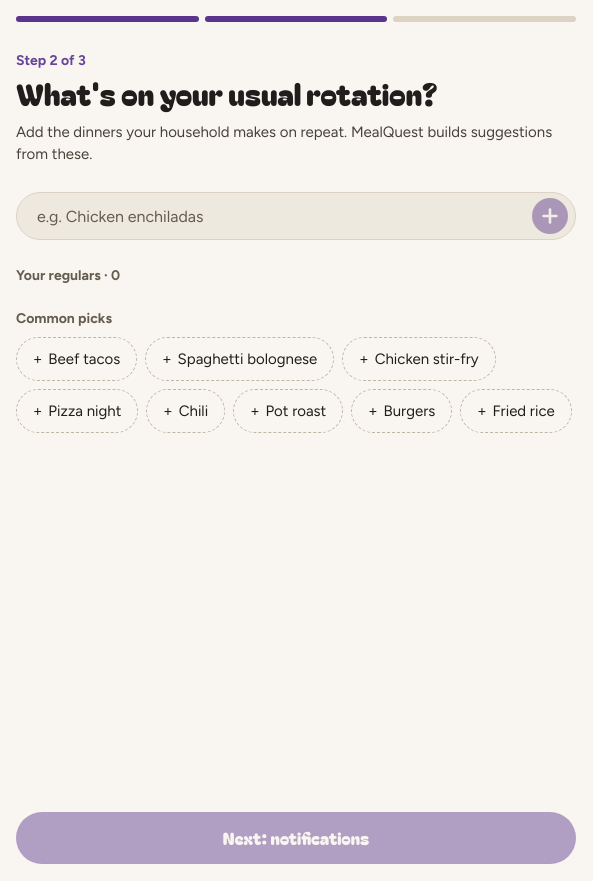
Scenario: onboarding step 2 (mock 1h) › says why each of two overlapping adds was refused
Expected: the heading "Common picks" is shown, [16,310,112,327]
What coordinates should you click on to do the following:
click the button with aria-label "Add Burgers"
I would click on:
 (402, 411)
Its box is [351,389,452,433].
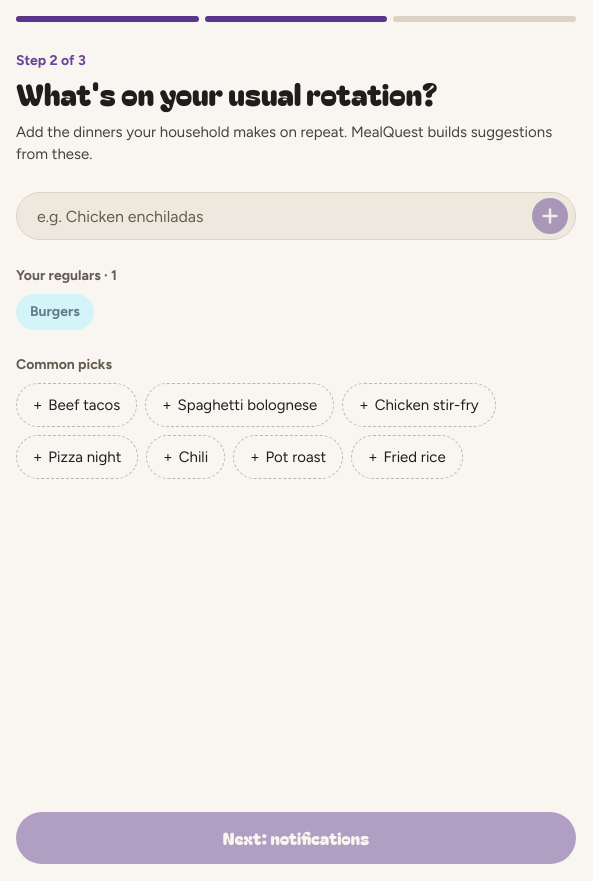
What coordinates should you click on to do the following:
click the button with aria-label "Add Chili"
I would click on:
 (186, 457)
Its box is [146,435,225,479].
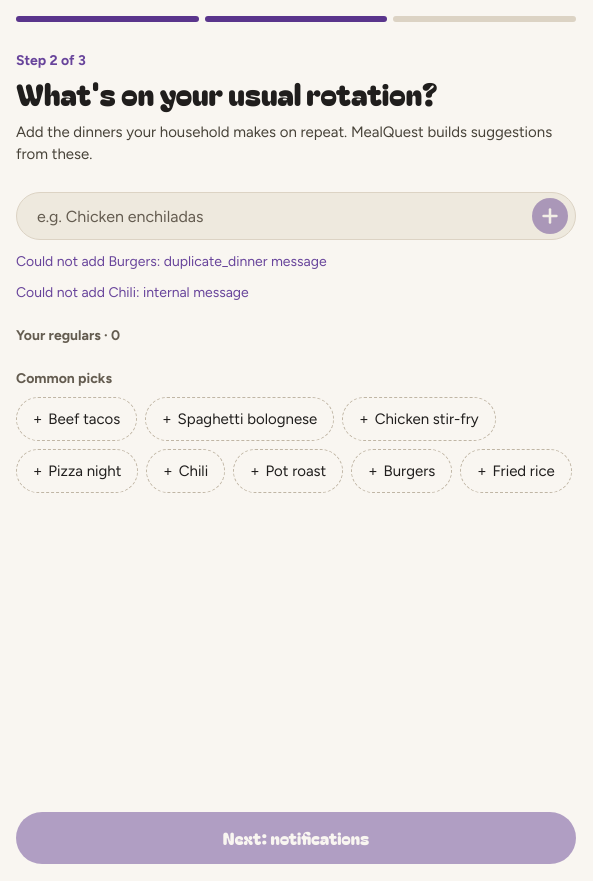
Expected: the messages read "Could not add Burgers: duplicate_dinner message", "Could not add Chili: internal message", in this order, [16,254,327,270]; [16,284,249,301]
